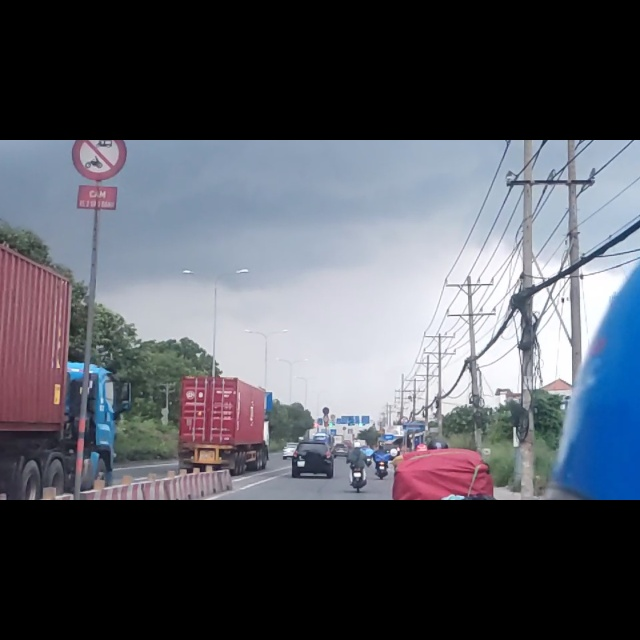bien_nguy_hiem: (71, 2, 127, 72)
